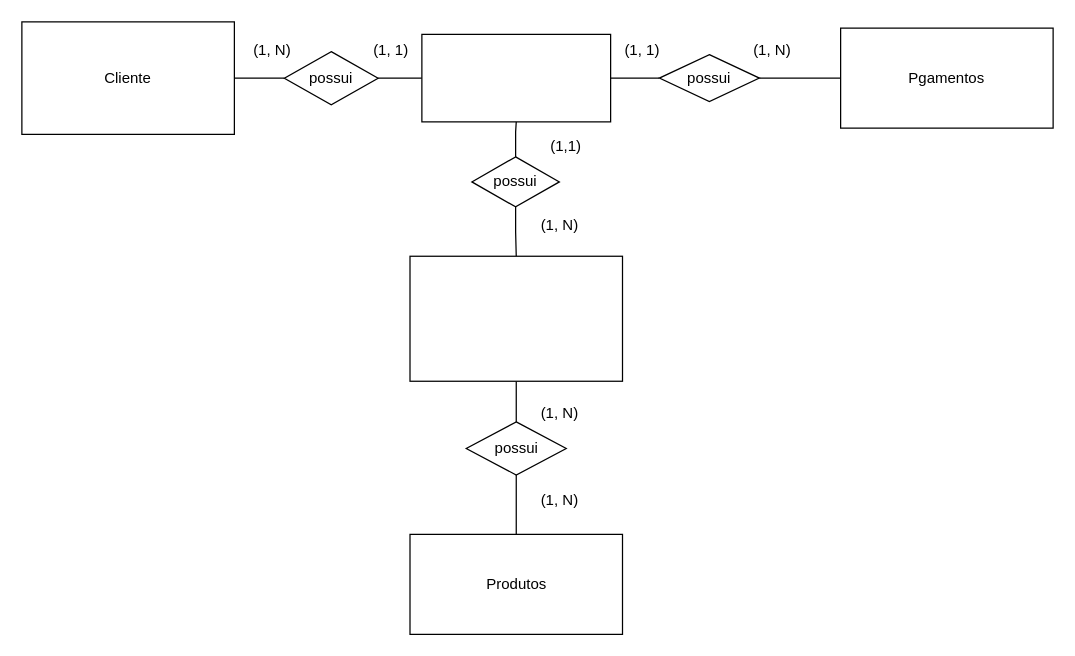
This 1075x656 diagram has some shape labels left out. Each missing label, with the centre of its shape:
Item do pedido: the point at 515,318
Pedidos: the point at 516,77
